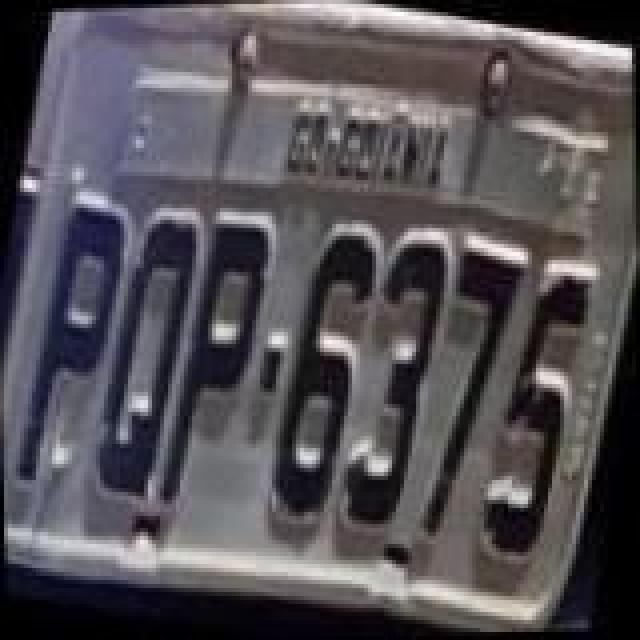3: (324, 226, 460, 534)
5: (462, 258, 606, 566)
6: (252, 218, 396, 530)
7: (398, 238, 538, 546)
P: (146, 210, 286, 522), (0, 194, 140, 502)
Q: (76, 202, 212, 506)
